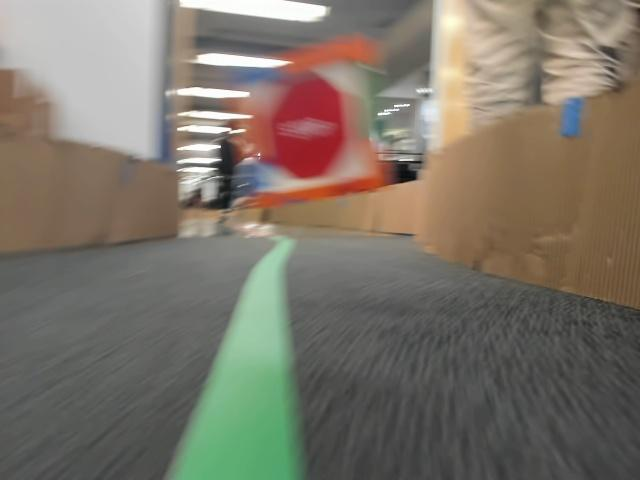Stop: (270, 76, 346, 179)
